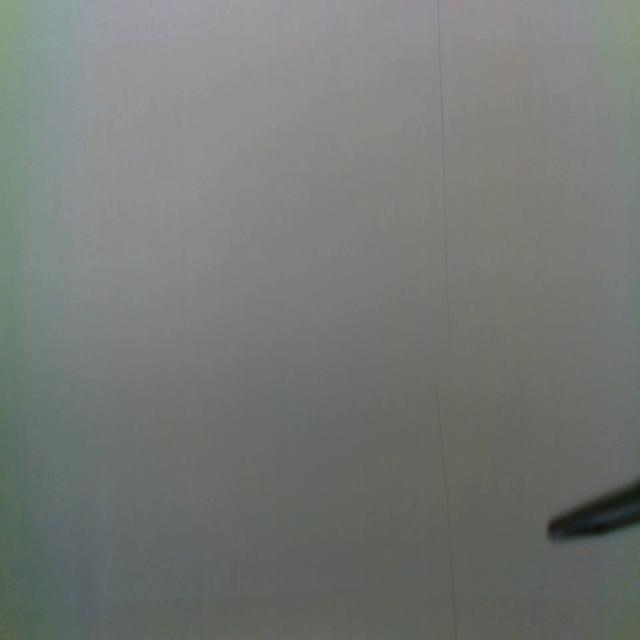crease: (432, 370, 458, 640), (435, 0, 454, 334)
